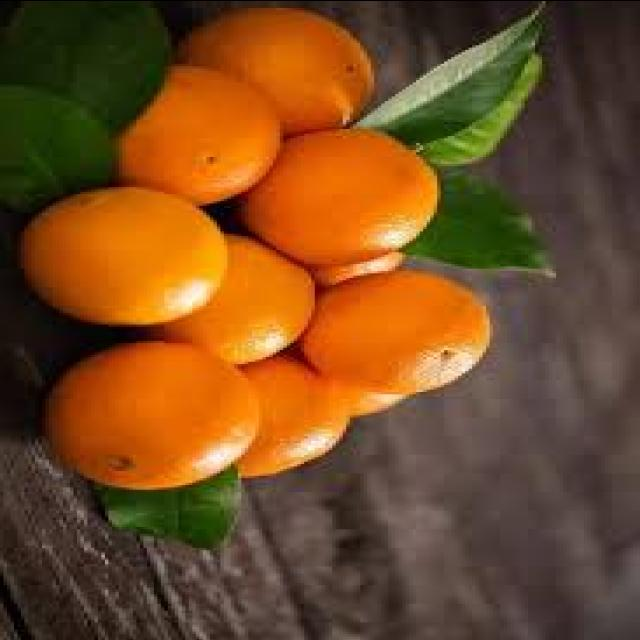orange: (316, 276, 496, 392)
